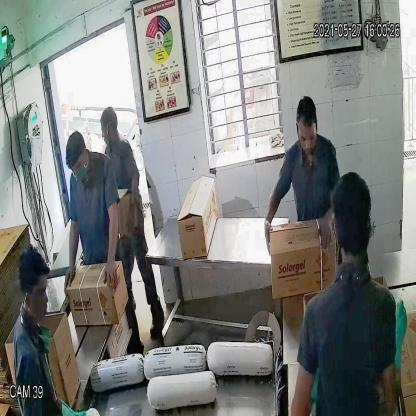no_goggles: (295, 126, 321, 150)
